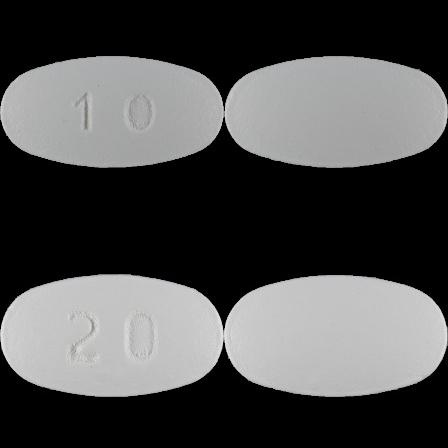51079-208: (0, 0, 224, 224)
